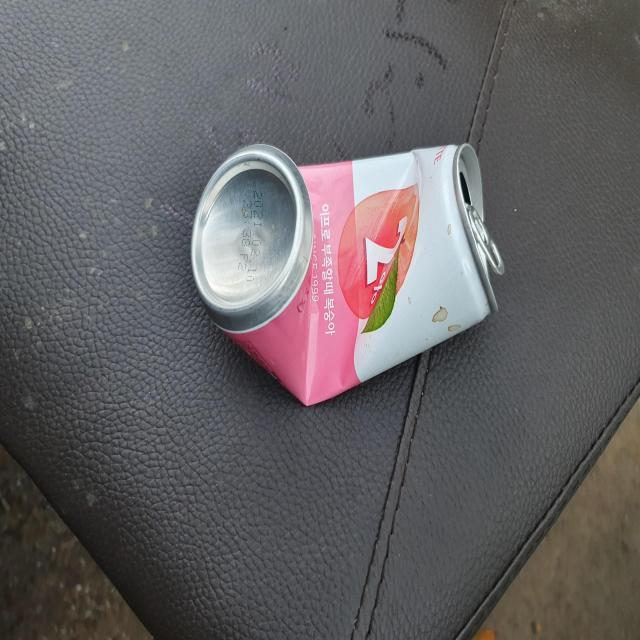can: (191, 143, 504, 405)
